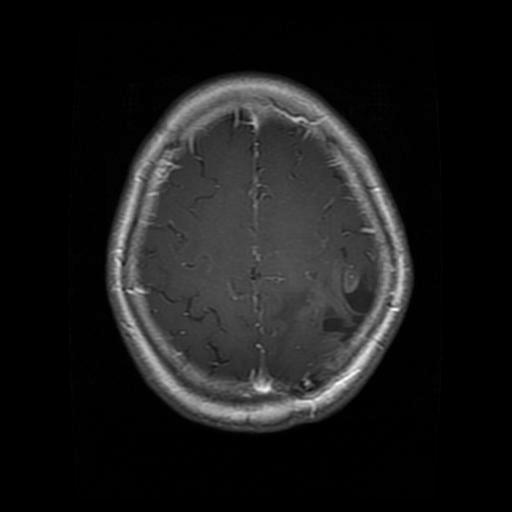Tumour-Glioma: (312, 248, 386, 343)
